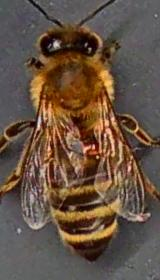varroa_mite: (80, 139, 106, 156)
